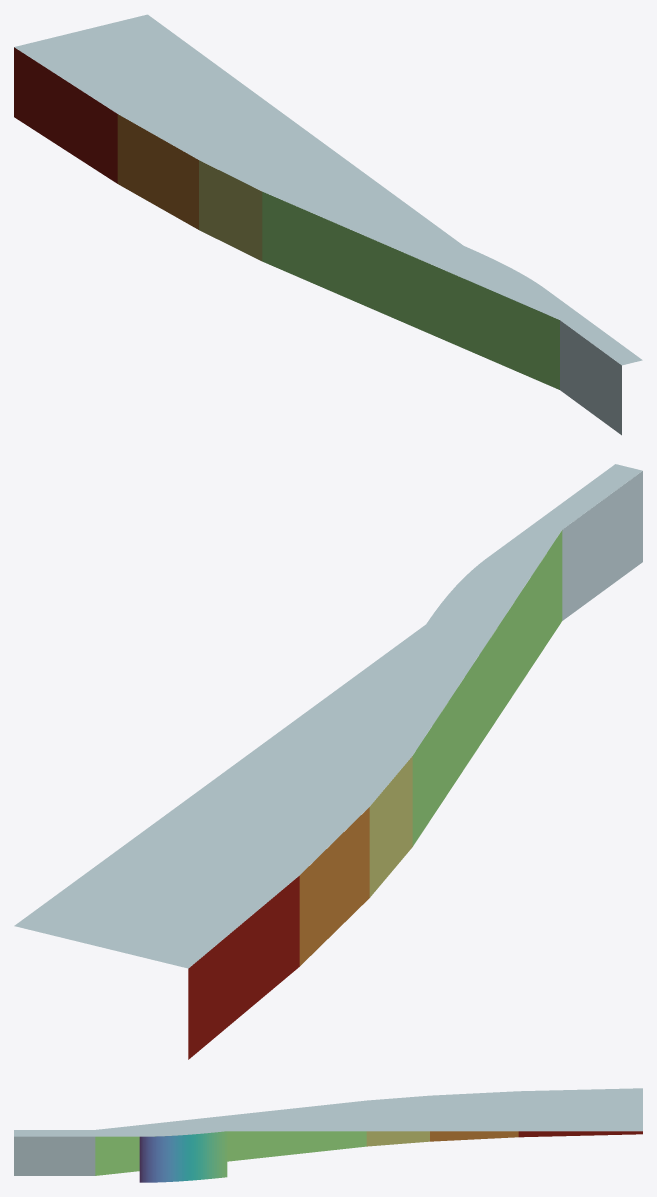
Rendered from scramjet_n4_m50.glb.
3 views of the same model, one above another, from view 1: azimuth 30°, elevation 25°; view 2: azimuth 150°, elevation 25°; view 3: azimuth 270°, elevation 25° (orthographic). The views are drawn at different scales.
Visible parts, largest first — view 1: mesh0; view 2: mesh0; view 3: mesh0.
Boxes of the visible parts, x1=… form: mesh0: x1=14, y1=14, x2=642, y2=435; mesh0: x1=14, y1=464, x2=642, y2=1059; mesh0: x1=14, y1=1088, x2=642, y2=1182.
Size of the model in its own units: 1.13 by 0.5006 by 6.19.
